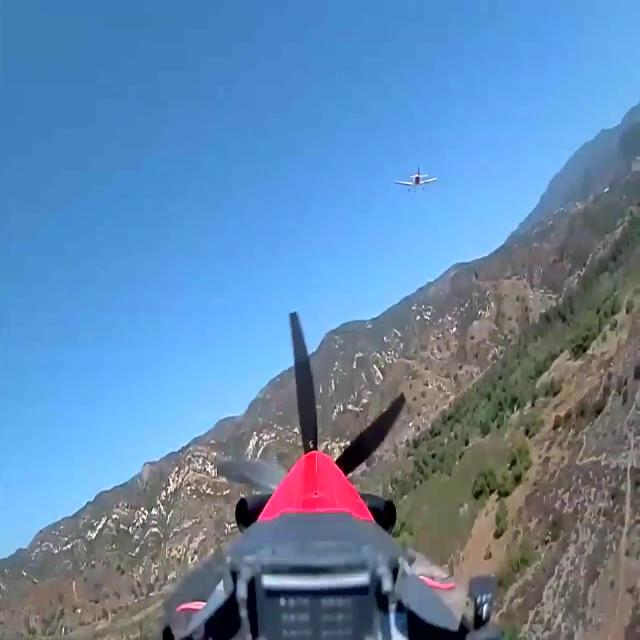iha: (394, 165, 437, 194)
